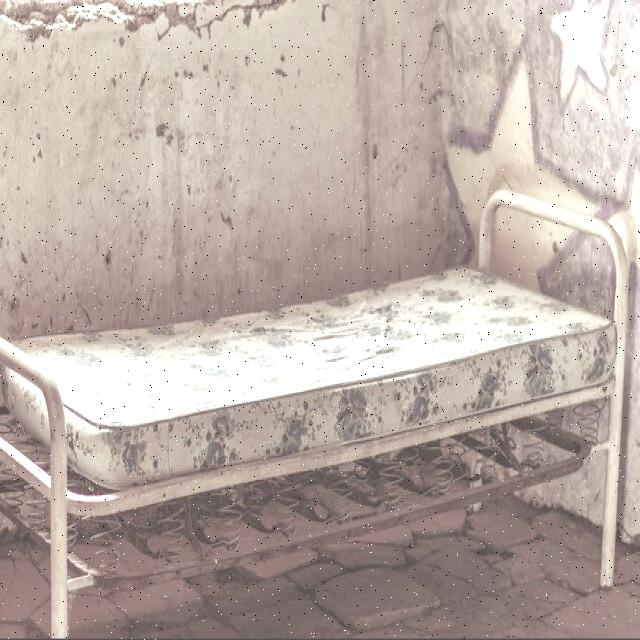bed: (0, 243, 615, 483)
